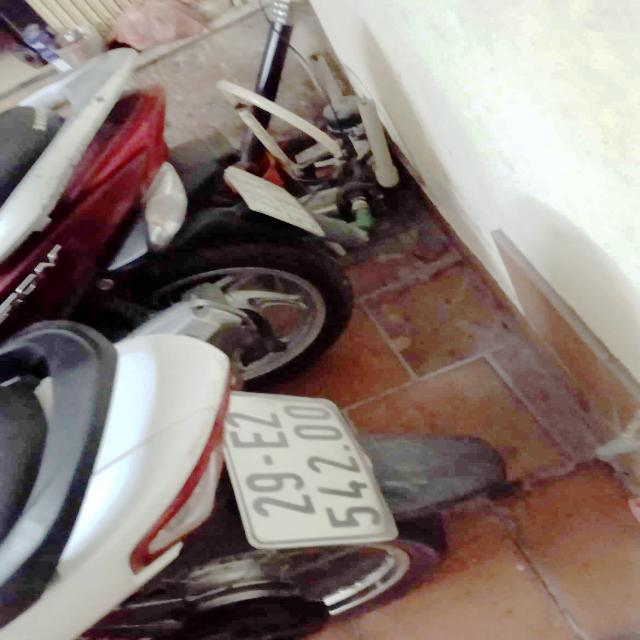license_plate: (216, 388, 404, 551)
